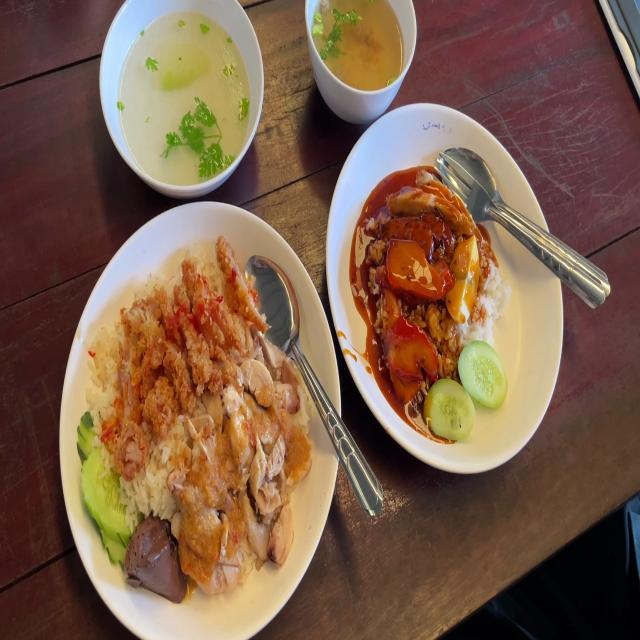boiled_chicken: (178, 353, 304, 588)
boiled_chicken_blood_jelly: (128, 514, 182, 600)
boiled_egg: (446, 236, 480, 322)
chainese_sausage: (390, 205, 456, 261)
chicken_rice: (77, 237, 313, 600)
crispy_pork: (382, 170, 478, 232)
cucumber: (75, 411, 127, 567), (460, 340, 510, 412), (428, 378, 475, 440)
fried_chicken: (106, 237, 266, 459)
red_pork: (384, 313, 436, 398), (384, 236, 450, 296)
red_pork_and_crispy_pork: (363, 167, 512, 441)
